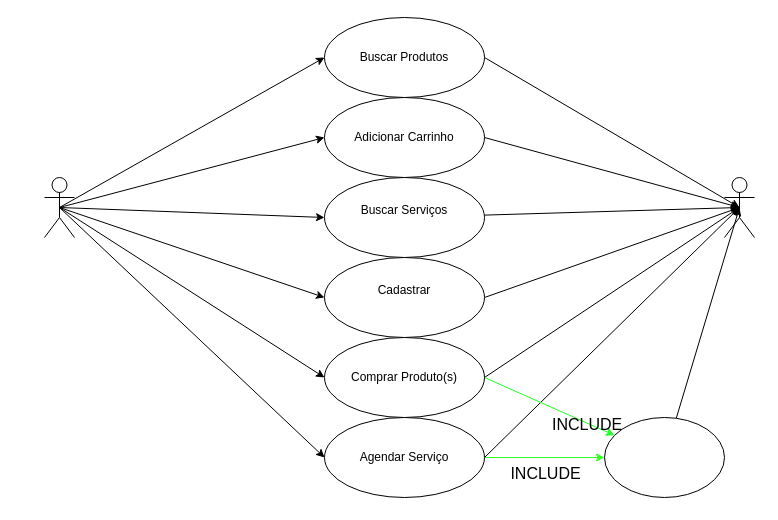
Image size: 778x520. Some labels were removed from this diagram. Here are the shapes that lost their labels. From the top down, the centre of each, then its label:
point 59,207: Visitante/cliente
point 739,207: Sistema
point 664,457: Autenticar
